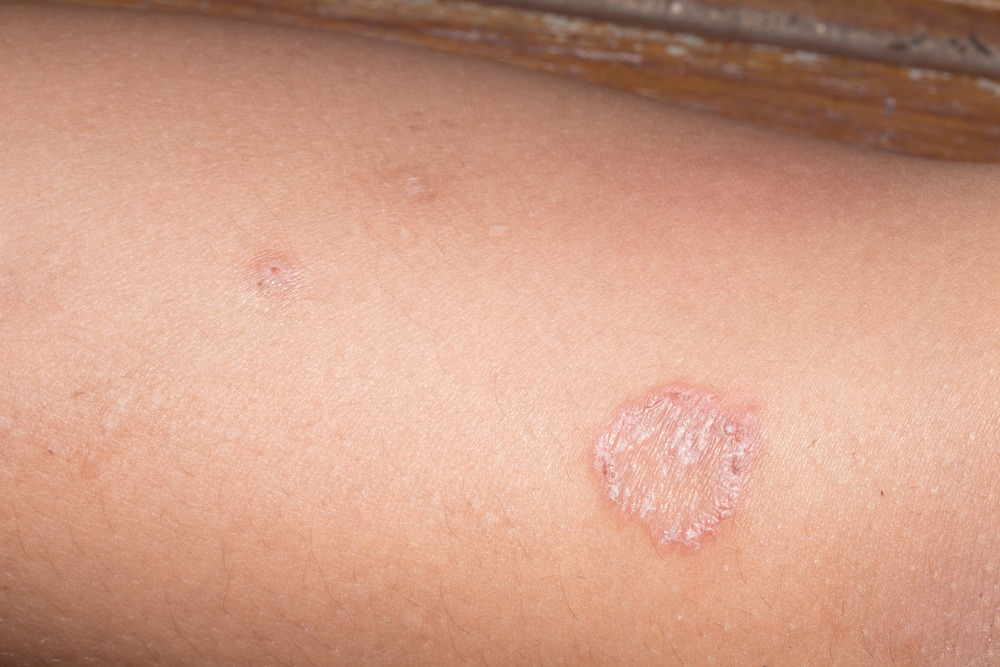Ringworm: (578, 360, 768, 558)
